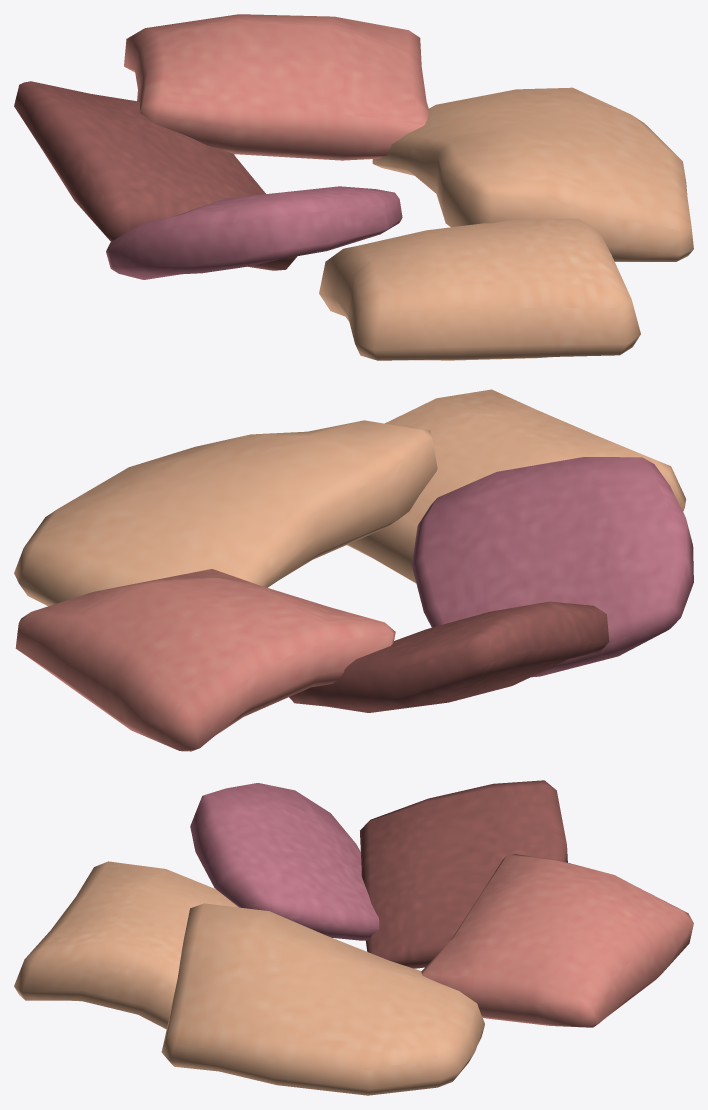
Rendered from SM_Cat_Portal_3.fbx.
3 views of the same model, one above another, from view 1: azimuth 30°, elevation 25°; view 2: azimuth 150°, elevation 25°; view 3: azimuth 270°, elevation 25° (orthographic). The views are drawn at different scales.
Visible parts, largest first — view 1: SM_Cat_Portal_2; view 2: SM_Cat_Portal_2; view 3: SM_Cat_Portal_2.
Part boxes in pixels (box(x1,y1,x2,y2)): SM_Cat_Portal_2: box(14, 14, 693, 360); SM_Cat_Portal_2: box(14, 389, 693, 751); SM_Cat_Portal_2: box(14, 780, 693, 1095).
Bounding box in the file's own units: 105 × 28.34 × 128.
Materials: 1 (1 with a texture image).
